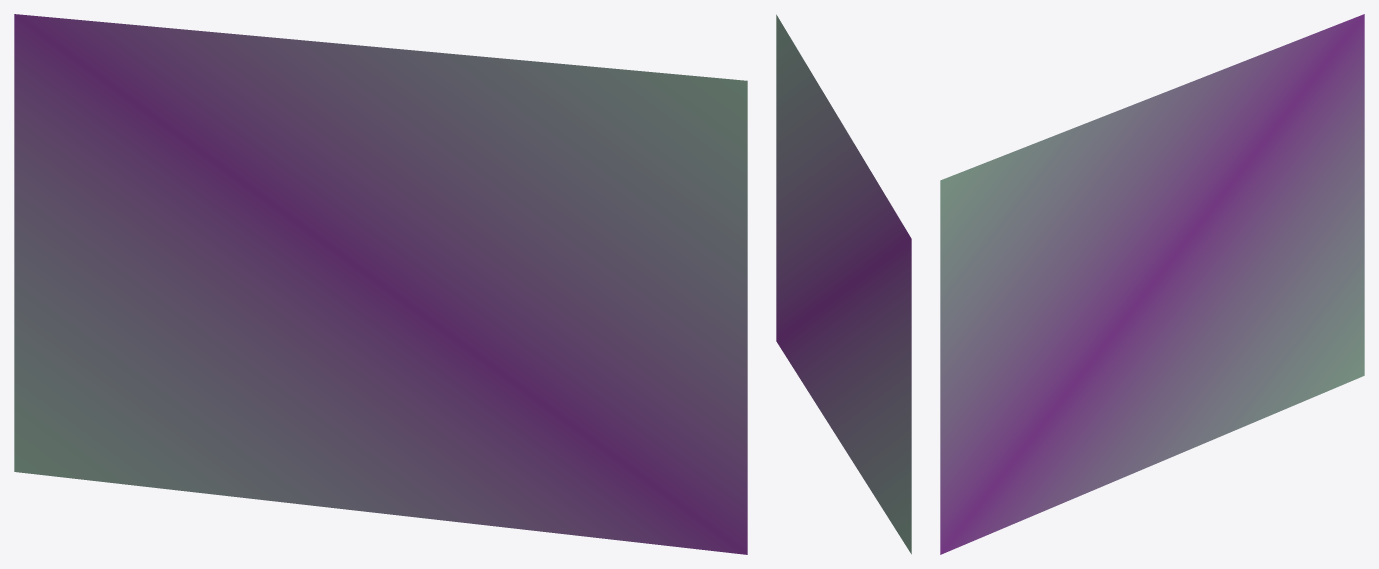
The model's file is Object_4_valencies.obj.
3 views of the same model, side by side, from view 1: azimuth 30°, elevation 25°; view 2: azimuth 150°, elevation 25°; view 3: azimuth 270°, elevation 25° (orthographic). The views are drawn at different scales.
Bounding box in the file's own units: 2 × 1.95 × 2.
